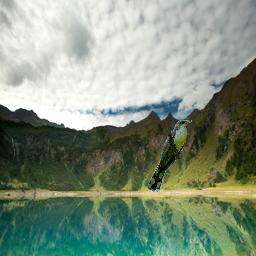Cuckoo: (148, 120, 192, 192)
